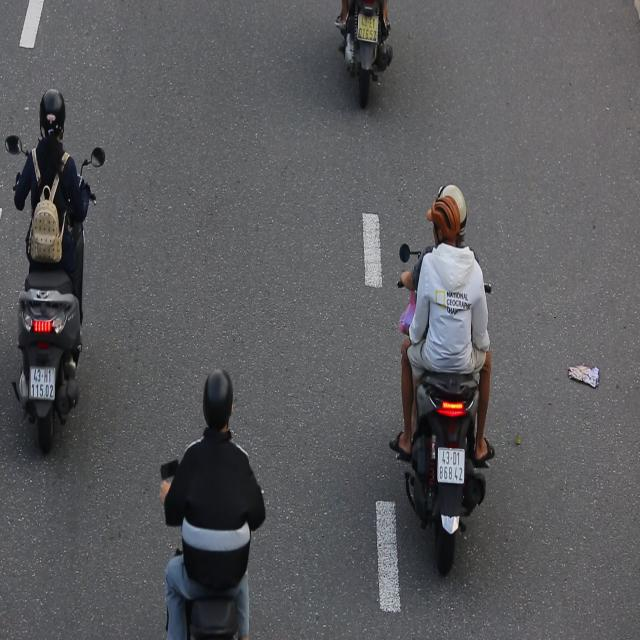motorbike: (386, 167, 506, 585), (0, 66, 105, 486)
